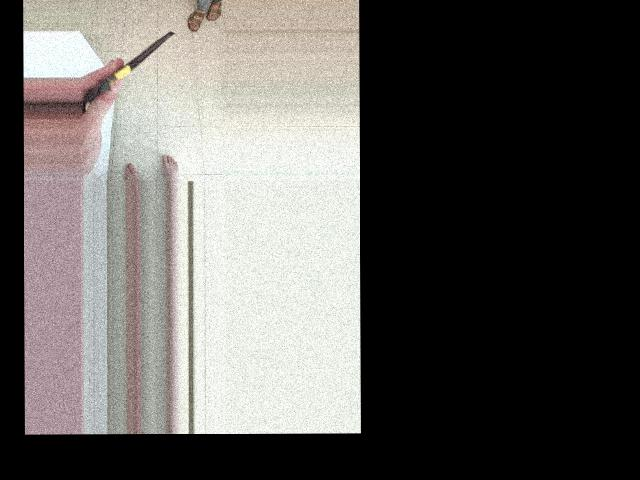chocolate: (118, 35, 207, 131)
